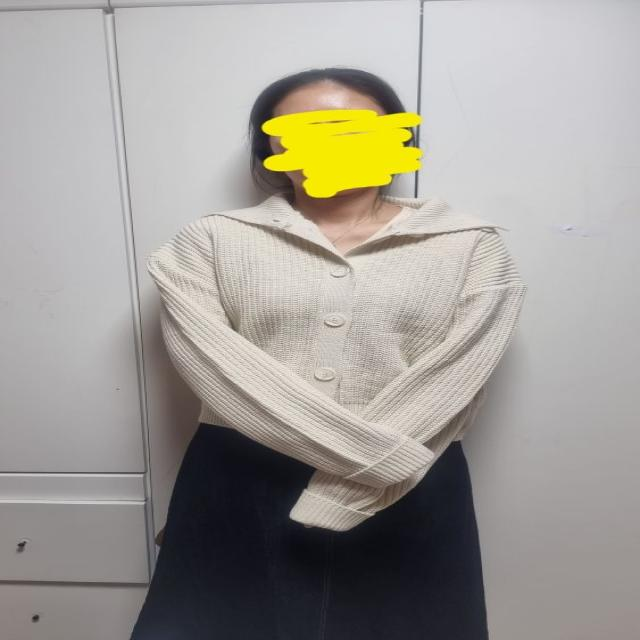cardigan: (146, 188, 525, 532)
skirt: (126, 417, 488, 640)
